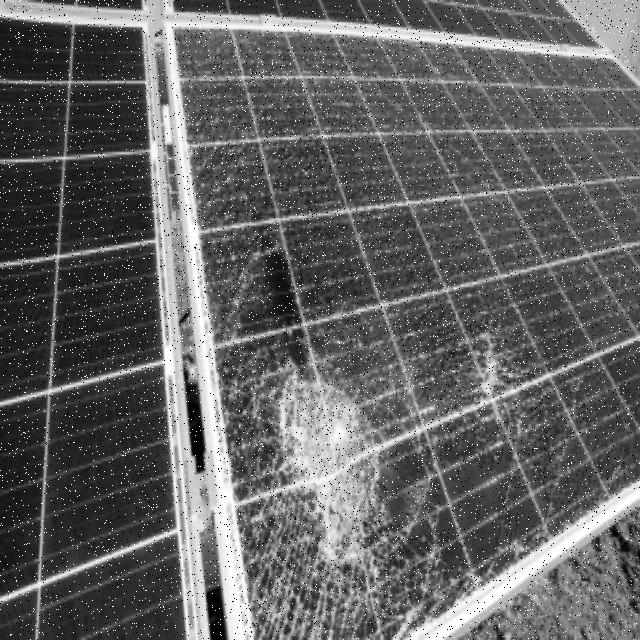physical damage: (177, 32, 640, 640)
